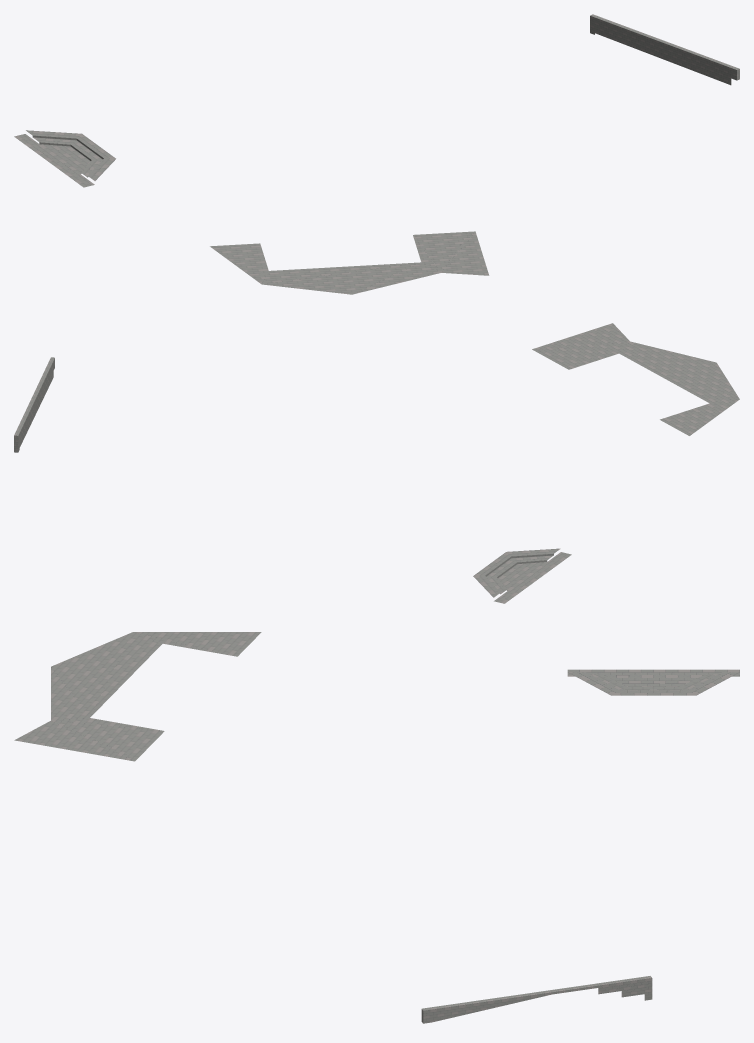
Rendered from kd_stage_135ebf_0_28_bounded.glb.
The picture shows the model from 3 angles, top to bottom: view 1: azimuth 30°, elevation 25°; view 2: azimuth 150°, elevation 25°; view 3: azimuth 270°, elevation 25°; orthographic projection. The views are drawn at different scales.
Visible parts, largest first — view 1: kd_stage_135ebf_0_28_bounded; view 2: kd_stage_135ebf_0_28_bounded; view 3: kd_stage_135ebf_0_28_bounded.
Part boxes in pixels (left/top/right/bottom): kd_stage_135ebf_0_28_bounded: left=14, top=14, right=739, bottom=294; kd_stage_135ebf_0_28_bounded: left=14, top=323, right=739, bottom=603; kd_stage_135ebf_0_28_bounded: left=14, top=632, right=739, bottom=1023.
Size of the model in its own units: 17.93 by 0.9508 by 15.25.
1 material, 1 textured.
